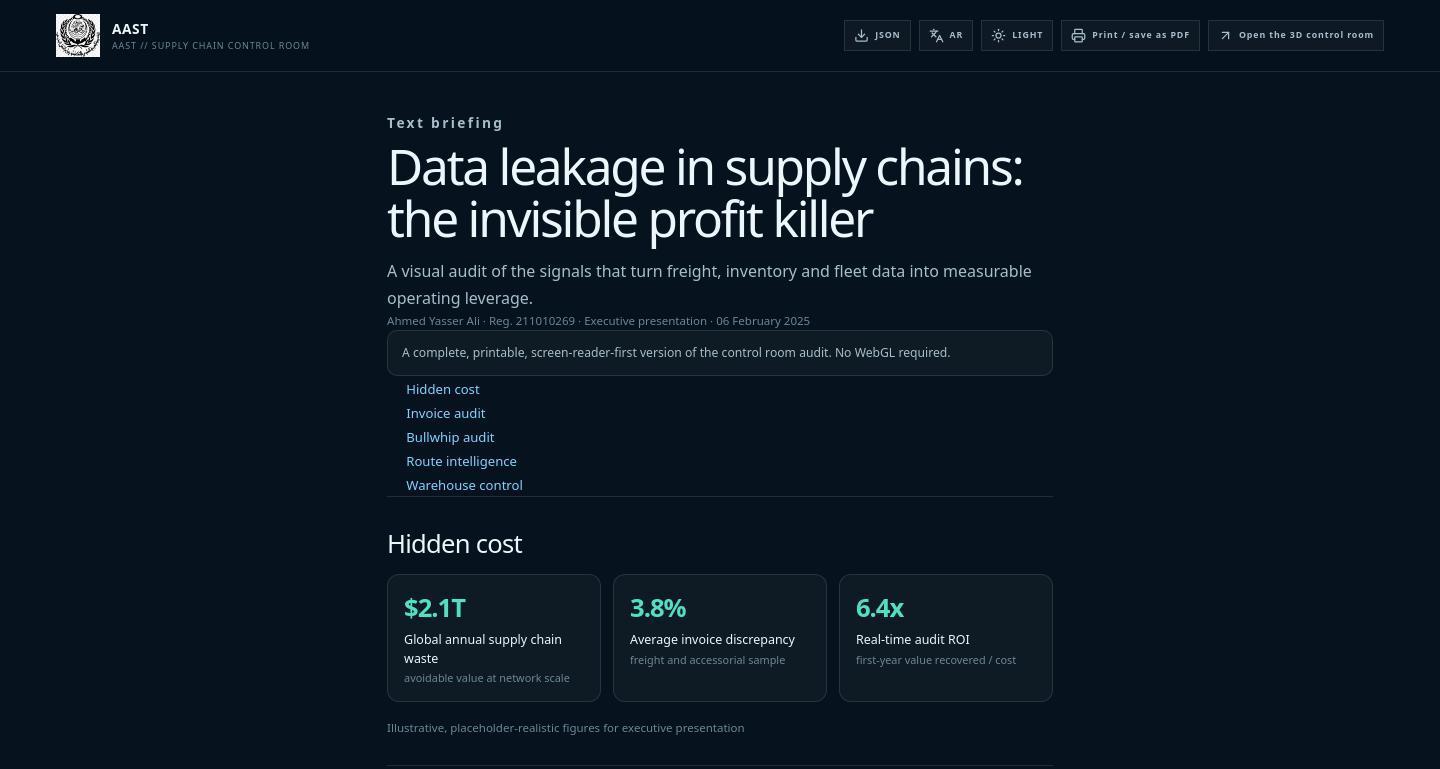
Test: Handout (no-WebGL briefing) › translates the whole briefing into Arabic
Click the button with aria-label "Language" at (946,36), box [919,20,973,51]
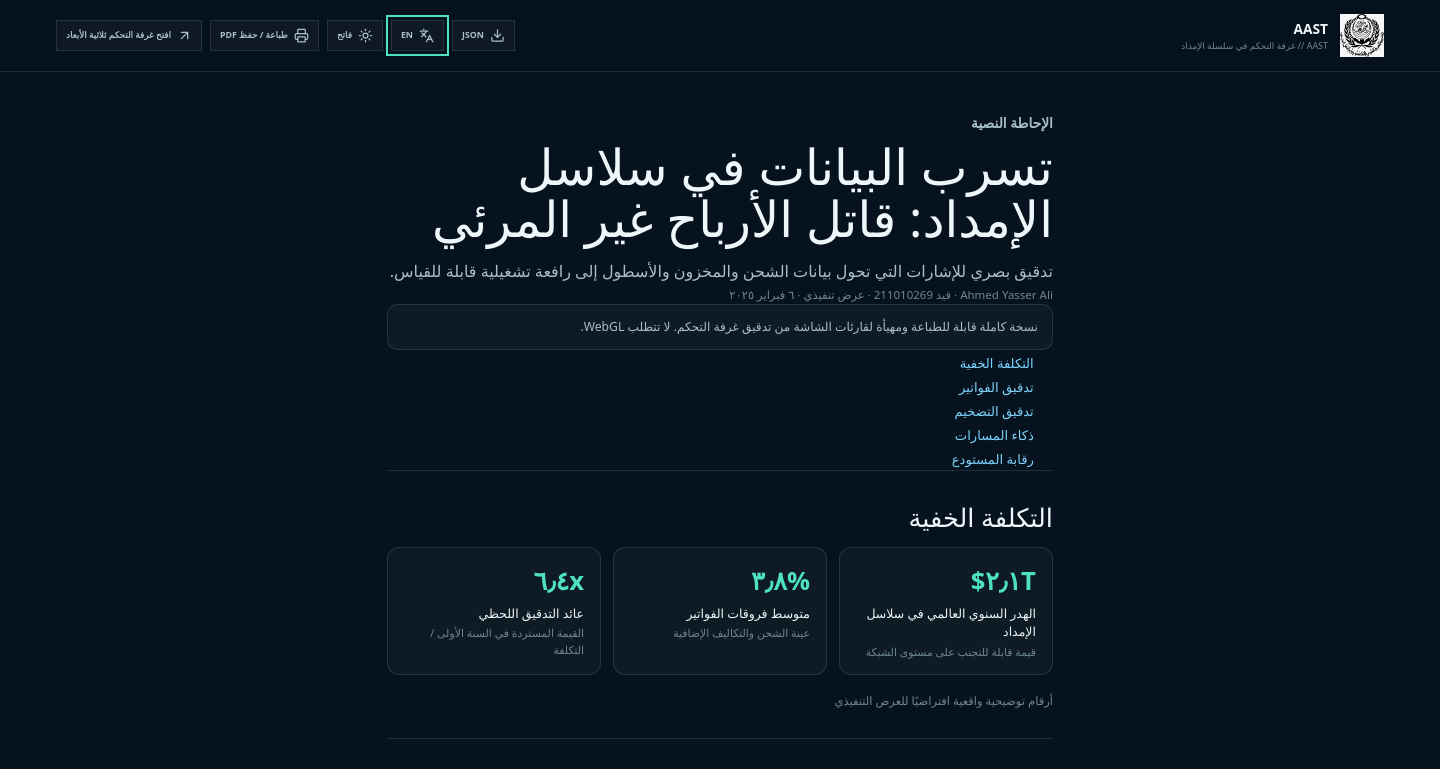
Check: the link "رقابة المستودع" is shown, box [952,450,1034,468]
